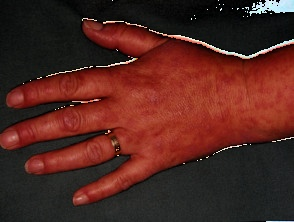SJS-TEN: (105, 29, 294, 168)
